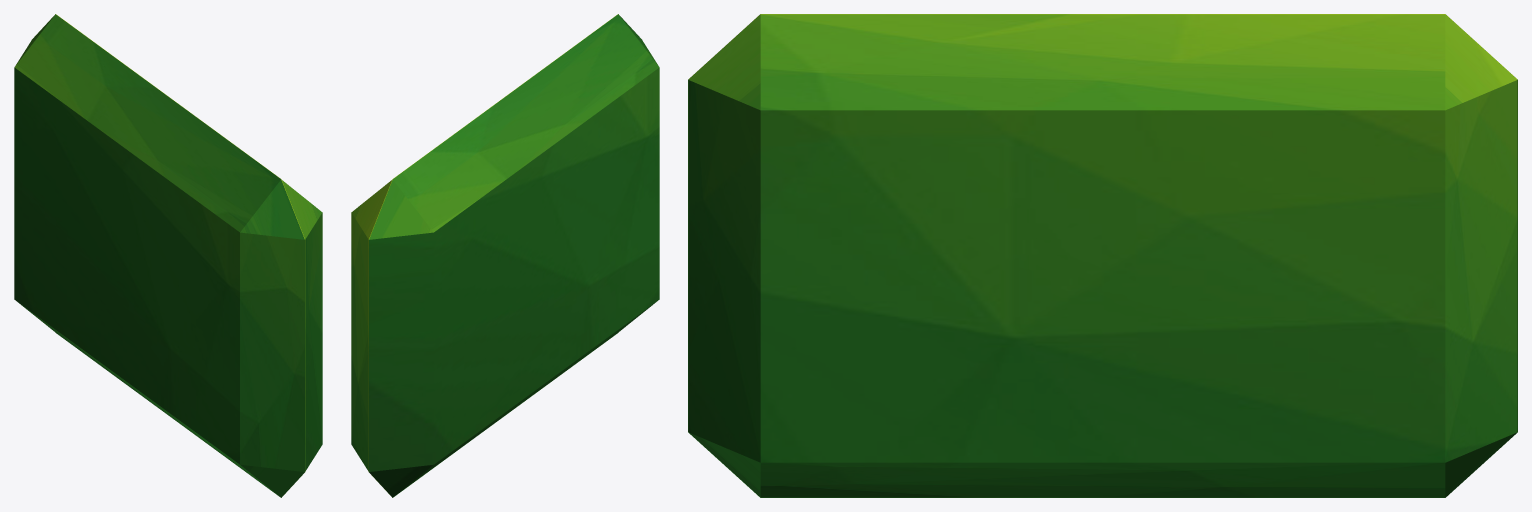
File: wallSpring2.fbx
3 views of the same model, side by side, from view 1: azimuth 30°, elevation 25°; view 2: azimuth 150°, elevation 25°; view 3: azimuth 270°, elevation 25° (orthographic). The views are drawn at different scales.
Parts seen in each view (by area): view 1: Cube; view 2: Cube; view 3: Cube.
Boxes of the visible parts, x1,y1,x2,y2 form: Cube: (14, 14, 322, 497); Cube: (351, 14, 659, 497); Cube: (688, 14, 1517, 497).
Size of the model in its own units: 0.6791 by 2.51 by 3.9.
1 material, 1 textured.
